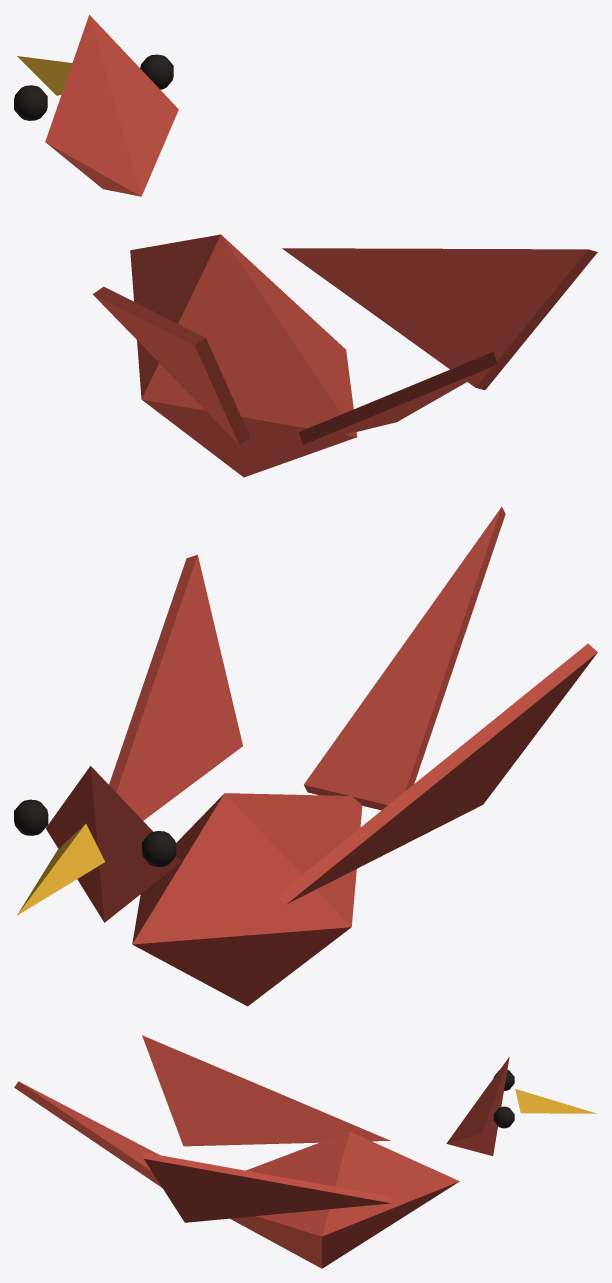
File: perch_chiyo_bird.glb
3 renders of one model, top to bottom at view 1: azimuth 30°, elevation 25°; view 2: azimuth 150°, elevation 25°; view 3: azimuth 270°, elevation 25°, orthographic. The views are drawn at different scales.
Visible parts, largest first — view 1: body, head; view 2: body, head; view 3: body, head.
Part boxes in pixels (bbox=[...]): body: bbox=[92, 234, 597, 477]; head: bbox=[14, 15, 178, 196]; body: bbox=[109, 506, 597, 1006]; head: bbox=[14, 766, 181, 922]; body: bbox=[14, 1035, 459, 1268]; head: bbox=[446, 1057, 596, 1155].
Bounding box in the file's own units: 0.154 × 0.1275 × 0.3175.
